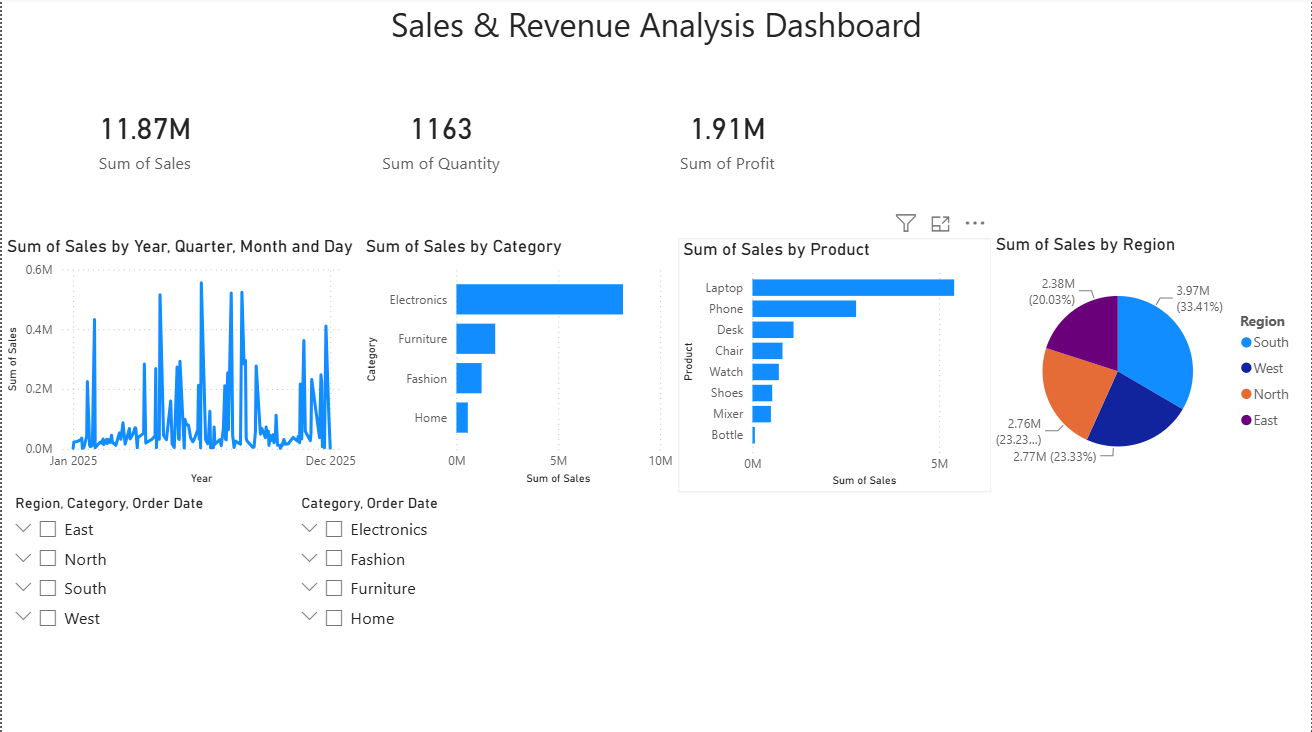

The page's visual inventory and layout, read from the dashboard file:
{"tool":"powerbi","page":{"name":"Page 1","canvas":[1280,720],"ordinal":0},"visuals":[{"type":"card","fields":{"Values":["Sum(SalesData.Sales)"]},"box":[0,41.2,279.9,192.1],"z":0},{"type":"card","fields":{"Values":["Sum(SalesData.Quantity)"]},"box":[289.5,41.2,279.9,192.1],"z":1000},{"type":"lineChart","fields":{"Category":["SalesData.Order Date.Variation.Date Hierarchy.Year","SalesData.Order Date.Variation.Date Hierarchy.Quarter","SalesData.Order Date.Variation.Date Hierarchy.Month","SalesData.Order Date.Variation.Date Hierarchy.Day"],"Y":["Sum(SalesData.Sales)"]},"box":[0,233.3,351.3,248.4],"z":2000},{"type":"clusteredBarChart","fields":{"Category":["SalesData.Category"],"Y":["Sum(SalesData.Sales)"]},"box":[351.3,233.3,310.1,248.4],"z":3000},{"type":"clusteredBarChart","fields":{"Category":["SalesData.Product"],"Y":["Sum(SalesData.Sales)"]},"box":[661.4,236,306,248.4],"z":4000},{"type":"slicer","fields":{"Values":["SalesData.Region","SalesData.Category","SalesData.Order Date"]},"box":[0,481.6,279.9,238.8],"z":5000},{"type":"card","fields":{"Values":["Sum(SalesData.Profit)"]},"box":[569.5,41.2,279.9,192.1],"z":6000},{"type":"slicer","fields":{"Values":["SalesData.Category","SalesData.Order Date"]},"box":[279.9,481.6,279.9,238.8],"z":7000},{"type":"pieChart","fields":{"Category":["SalesData.Region"],"Y":["Sum(SalesData.Sales)"]},"box":[967.4,230.5,312.9,251.1],"z":8000},{"type":"textbox","box":[0,0,1280.3,70],"z":8001}]}

Visuals, with their boxes in screenshot pixels (x1, y1, x2, y2), scaled from the page's 1280x720 canvas onto the 1312x732 screenshot:
card - Sum(SalesData.Sales): <bbox>0, 42, 287, 237</bbox>
card - Sum(SalesData.Quantity): <bbox>297, 42, 584, 237</bbox>
lineChart - SalesData.Order Date.Variation.Date Hierarchy.Year x SalesData.Order Date.Variation.Date Hierarchy.Quarter: <bbox>0, 237, 360, 490</bbox>
clusteredBarChart - SalesData.Category x Sum(SalesData.Sales): <bbox>360, 237, 678, 490</bbox>
clusteredBarChart - SalesData.Product x Sum(SalesData.Sales): <bbox>678, 240, 992, 492</bbox>
slicer - SalesData.Region x SalesData.Category: <bbox>0, 490, 287, 731</bbox>
card - Sum(SalesData.Profit): <bbox>584, 42, 871, 237</bbox>
slicer - SalesData.Category x SalesData.Order Date: <bbox>287, 490, 574, 731</bbox>
pieChart - SalesData.Region x Sum(SalesData.Sales): <bbox>992, 234, 1311, 490</bbox>
textbox: <bbox>0, 0, 1311, 71</bbox>
